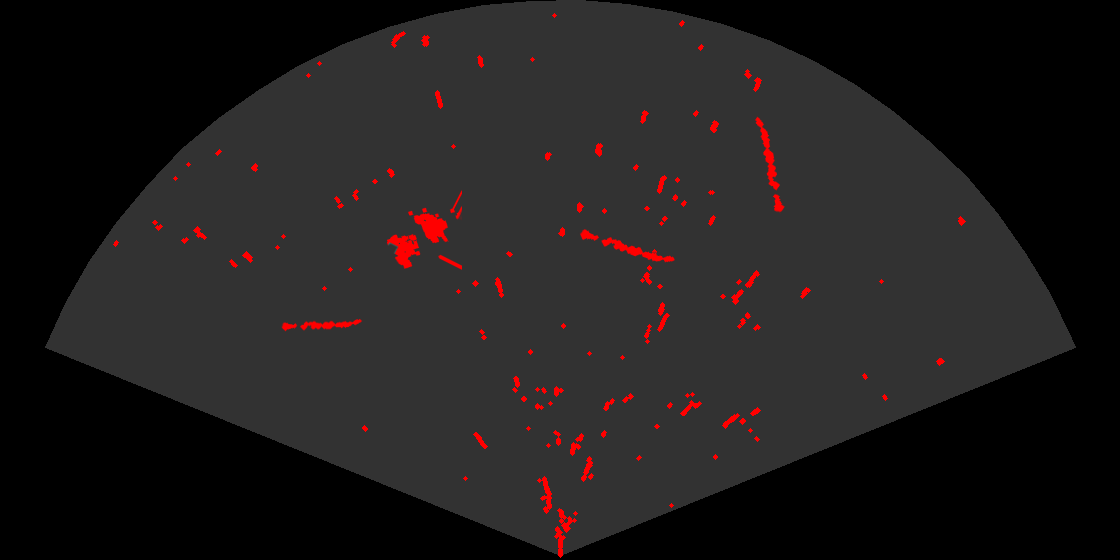cage: (385, 189, 462, 271)
chain: (578, 228, 676, 264), (754, 115, 786, 214), (281, 317, 363, 333)
